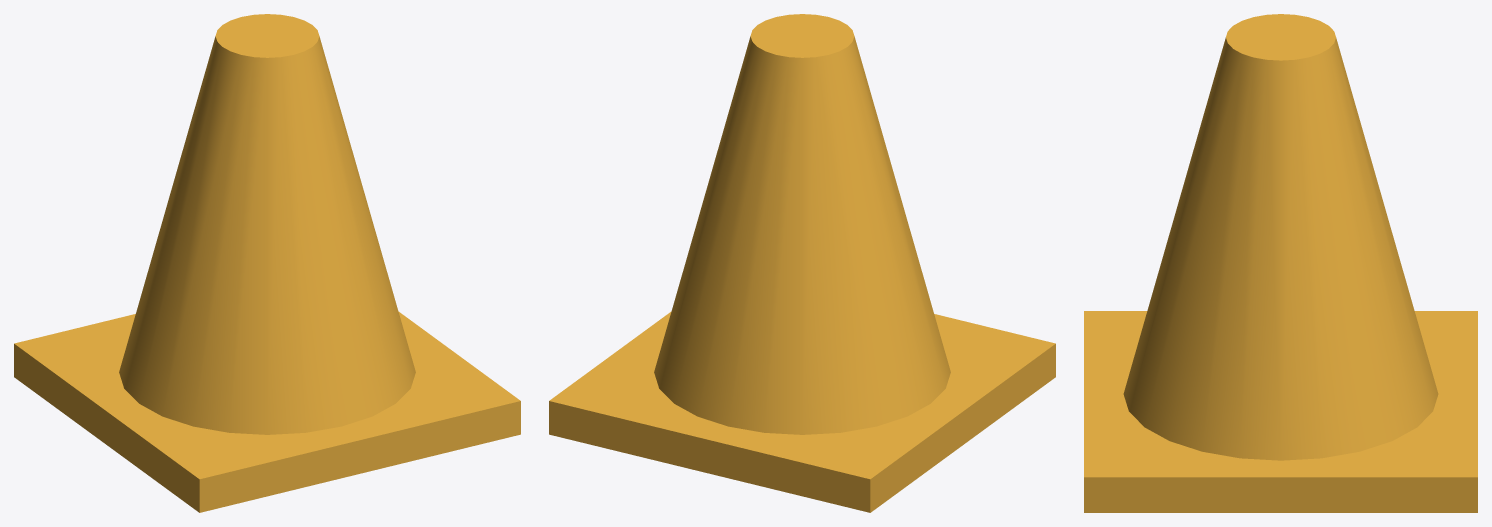
The model's file is pylon.obj.
3 renders of one model, left to right at view 1: azimuth 30°, elevation 25°; view 2: azimuth 150°, elevation 25°; view 3: azimuth 270°, elevation 25°, orthographic. The views are drawn at different scales.
Visible parts, largest first — view 1: pylon; view 2: pylon; view 3: pylon.
Boxes of the visible parts, x1,y1,x2,y2 form: pylon: [14, 14, 520, 512]; pylon: [549, 14, 1055, 512]; pylon: [1084, 14, 1477, 512].
Size of the model in its own units: 0.12 by 0.132 by 0.12.
